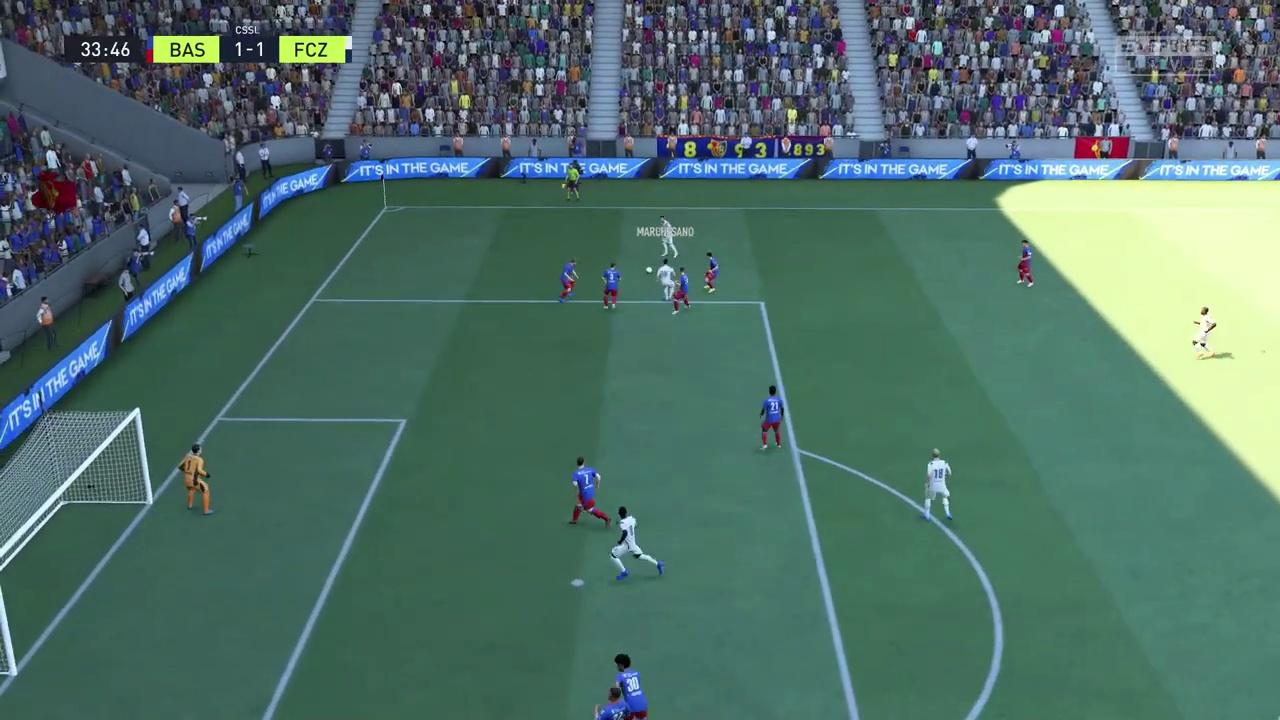scoreboard: (153, 34, 355, 65)
timestamp: (67, 33, 140, 62)
